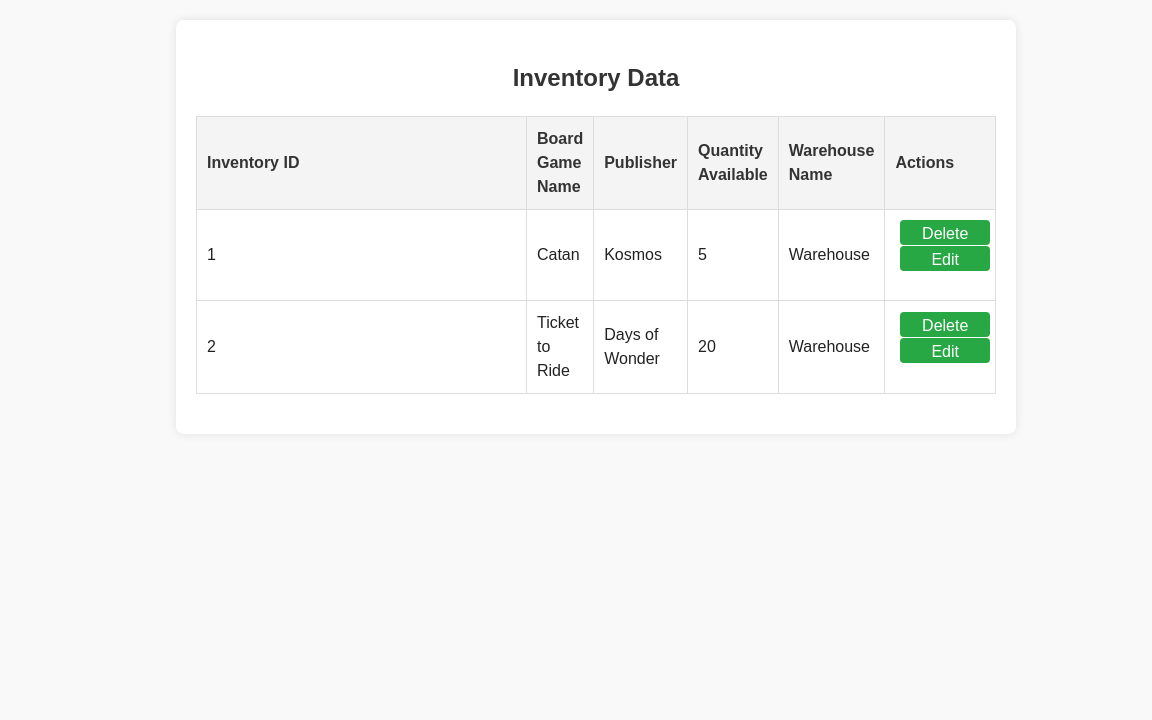
Scenario: Inventory List Component › handles editing an inventory entry and the form buttons
Expected: the text "Catan" is shown, [526, 209, 594, 300]
Click "Edit" button for the first inventory entry
Click the button "Edit Quantity" in the row of "Catan" at (945, 258), box [900, 246, 990, 271]
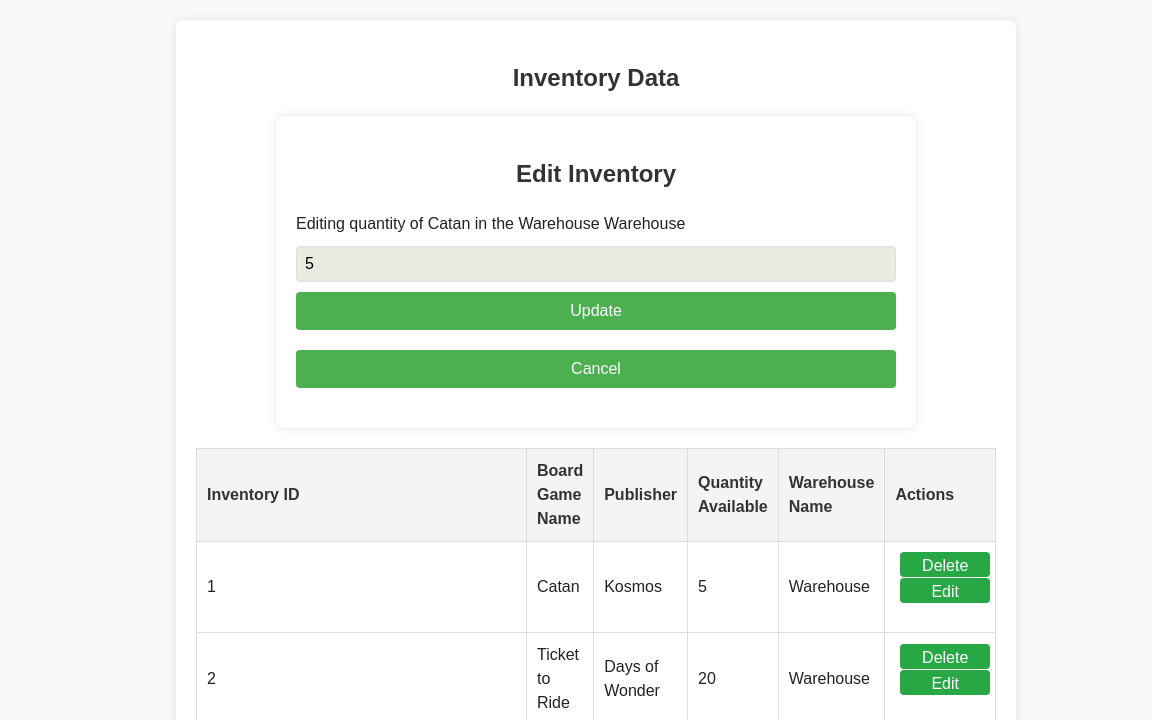
Expected: the number field with placeholder "Quantity Available" holds "5"
Update the form and submit
Replace the text in the number field with placeholder "Quantity Available" with "20" at (596, 264), box [296, 246, 896, 282]
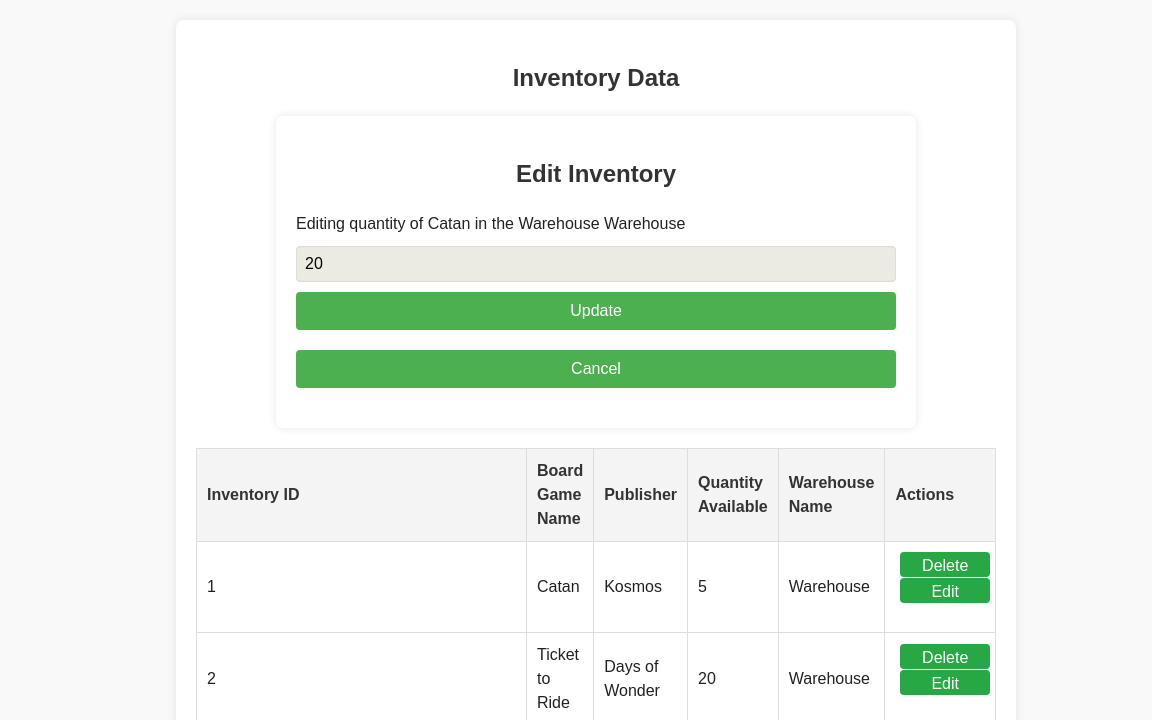
Click the button "Update" at (596, 311), box [296, 292, 896, 330]
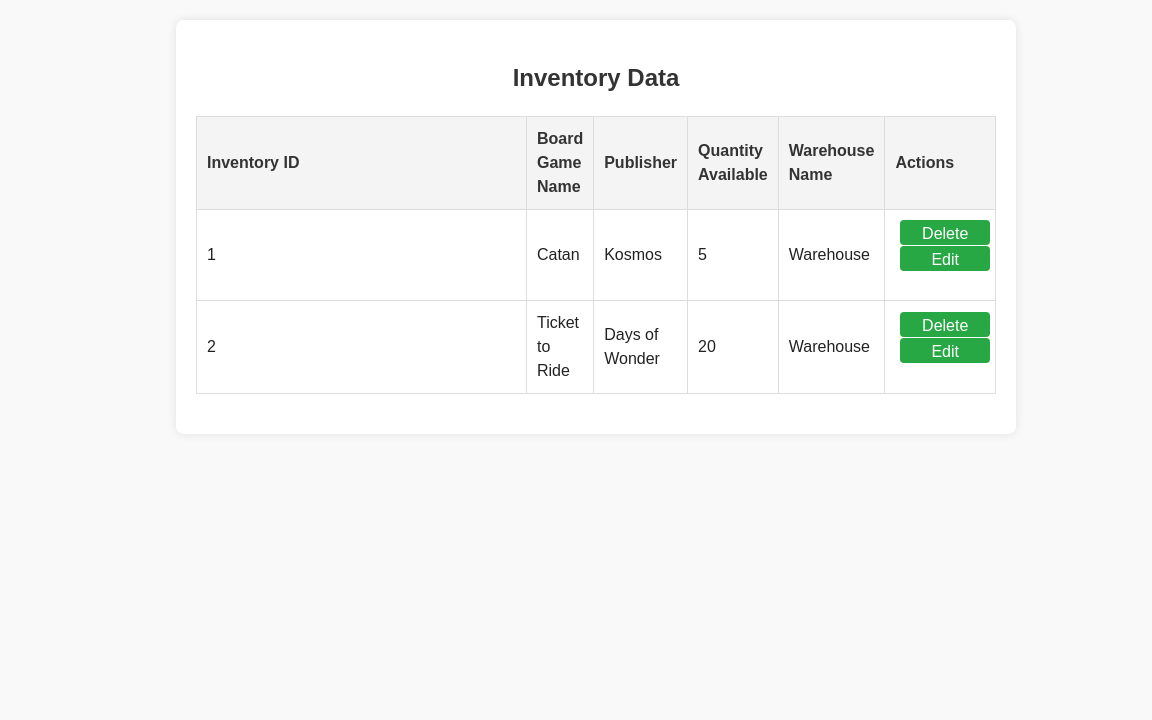
Click the button "Edit Quantity" in the row of "Catan" at (945, 258), box [900, 246, 990, 271]
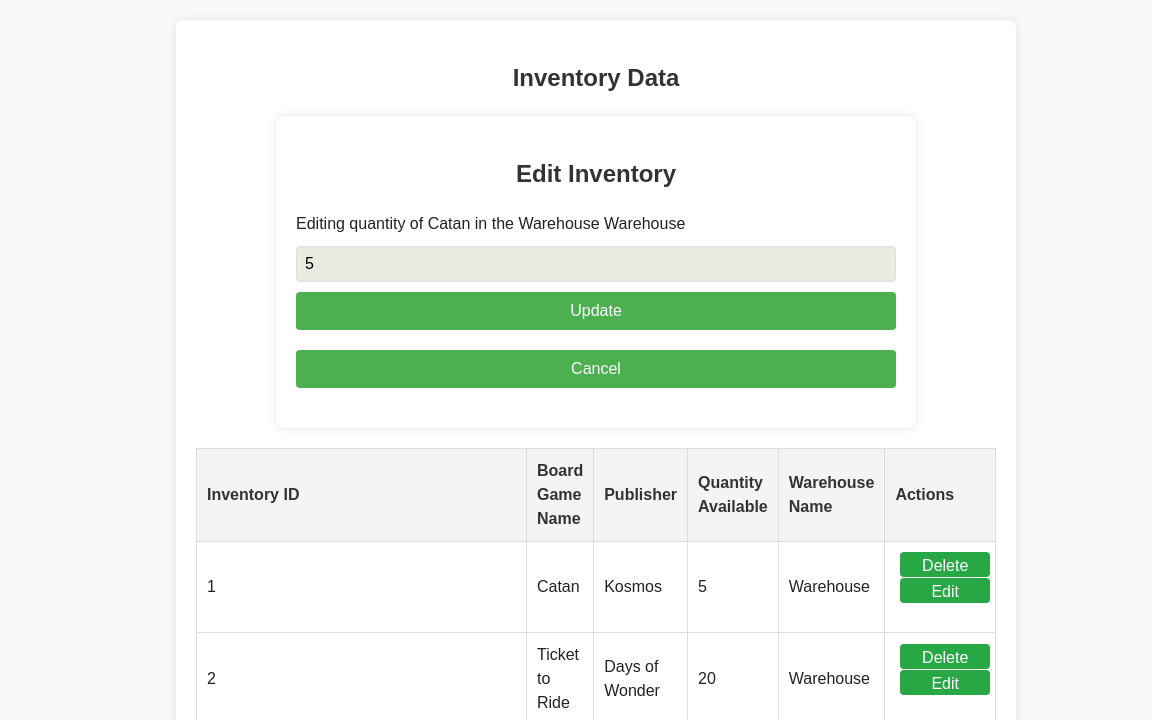
Expected: the text "Editing quantity of Catan in the Warehouse Warehouse" is shown, [296, 215, 685, 232]
Click the "Cancel" button
Click the button "Cancel" at (596, 369), box [296, 350, 896, 388]
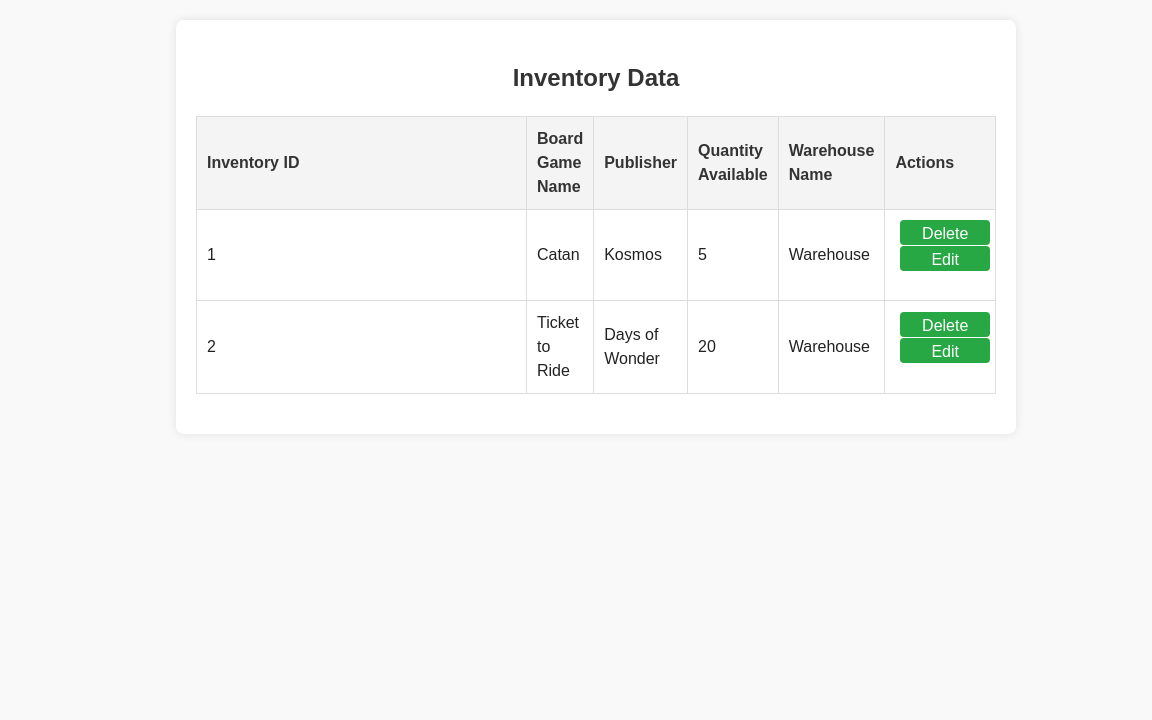
Expected: the text "Editing quantity of Catan in the Warehouse Warehouse" is gone
